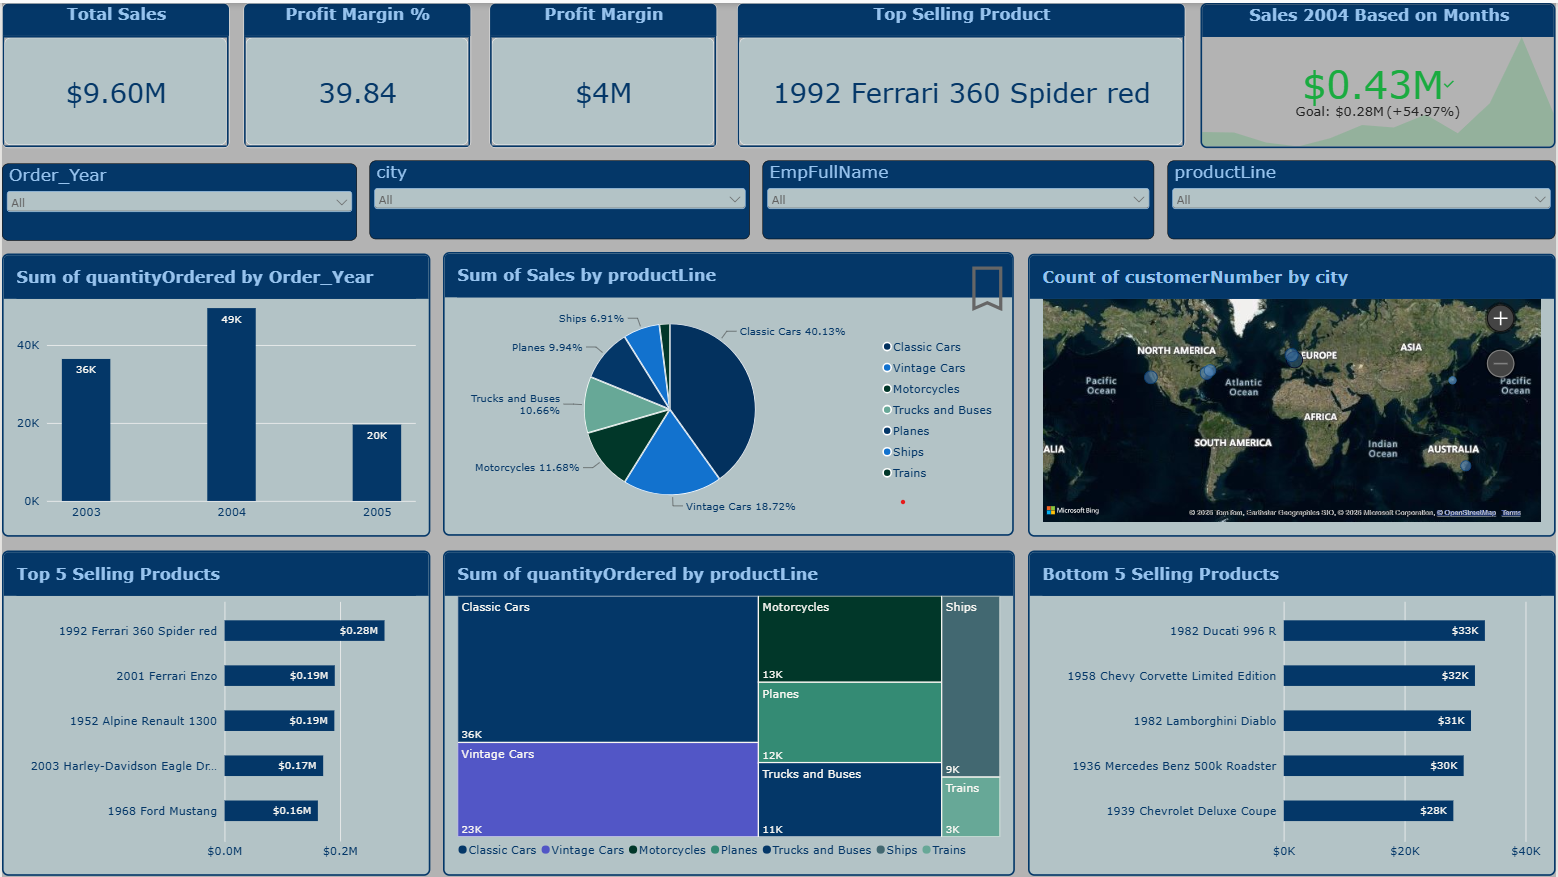

What the dashboard file says about the page in this screenshot:
{"tool":"powerbi","page":{"name":"Page 1","canvas":[1920,1080],"ordinal":0},"visuals":[{"type":"cardVisual","title":"Top Selling Product","fields":{"Data":["customers.MostOrderedProduct"]},"box":[908.5,0,554.2,179.4],"z":0},{"type":"barChart","title":"Top 5 Selling Products","fields":{"Category":["products.productName"],"Y":["Sum(order details.Sales)"]},"box":[0,676.8,529.2,402],"z":1000},{"type":"pieChart","fields":{"Category":["products.productLine"],"Y":["Sum(order details.Sales)"]},"box":[545.4,308.2,705.6,350.8],"z":2000},{"type":"slicer","fields":{"Values":["orders.Order_Year"]},"box":[0,197.6,438.4,95.4],"z":3000},{"type":"kpi","title":"Sales 2004 Based on Months","fields":{"Goal":["orders.sales_2003"],"Indicator":["orders.sales_2004"],"TrendLine":["orders.Month Name"]},"box":[1480.9,0,438.4,179.4],"z":4000},{"type":"map","fields":{"Category":["employees.city"],"Size":["CountNonNull(customers.customerNumber)"]},"box":[1267.4,308.9,651.9,349.8],"z":5000},{"type":"columnChart","fields":{"Category":["orders.Order_Year"],"Y":["Sum(order details.quantityOrdered)"]},"box":[0,308.9,529.2,349.8],"z":6000},{"type":"treemap","fields":{"Group":["productlines.productLine"],"Values":["Sum(order details.quantityOrdered)"]},"box":[545.1,676.8,706.4,402],"z":7000},{"type":"cardVisual","title":"Profit Margin","fields":{"Data":["order details.Total_Profit"]},"box":[601.9,0,281.6,179.4],"z":8000},{"type":"cardVisual","title":"Profit Margin %","fields":{"Data":["orders.Profit_Margin_%"]},"box":[297.5,0,281.6,179.4],"z":9000},{"type":"cardVisual","title":"Total Sales","fields":{"Data":["Sum(order details.Sales)"]},"box":[0,0,281.6,179.4],"z":10000},{"type":"slicer","fields":{"Values":["offices.city"]},"box":[454.3,195.3,470.2,97.7],"z":11000},{"type":"slicer","fields":{"Values":["employees.EmpFullName"]},"box":[940.3,195.3,483.8,97.7],"z":12000},{"type":"slicer","fields":{"Values":["productlines.productLine"]},"box":[1440,195.3,479.2,97.7],"z":13000},{"type":"barChart","title":"Bottom 5 Selling Products","fields":{"Category":["products.productName"],"Y":["Sum(order details.Sales)"]},"box":[1267.4,676.8,651.9,402],"z":14000},{"type":"actionButton","box":[1151.7,292,133.8,119.6],"z":15000}]}

Visuals, with their boxes in screenshot pixels (x1, y1, x2, y2), scaled from the page's 1920x1080 canvas onto the 1558x877 screenshot:
"Top Selling Product" cardVisual: region(737, 0, 1187, 146)
"Top 5 Selling Products" barChart: region(0, 550, 429, 876)
pieChart - products.productLine x Sum(order details.Sales): region(443, 250, 1015, 535)
slicer - orders.Order_Year: region(0, 160, 356, 238)
"Sales 2004 Based on Months" kpi: region(1202, 0, 1557, 146)
map - employees.city x CountNonNull(customers.customerNumber): region(1028, 251, 1557, 535)
columnChart - orders.Order_Year x Sum(order details.quantityOrdered): region(0, 251, 429, 535)
treemap - productlines.productLine x Sum(order details.quantityOrdered): region(442, 550, 1016, 876)
"Profit Margin" cardVisual: region(488, 0, 717, 146)
"Profit Margin %" cardVisual: region(241, 0, 470, 146)
"Total Sales" cardVisual: region(0, 0, 229, 146)
slicer - offices.city: region(369, 159, 750, 238)
slicer - employees.EmpFullName: region(763, 159, 1156, 238)
slicer - productlines.productLine: region(1168, 159, 1557, 238)
"Bottom 5 Selling Products" barChart: region(1028, 550, 1557, 876)
actionButton: region(935, 237, 1043, 334)
